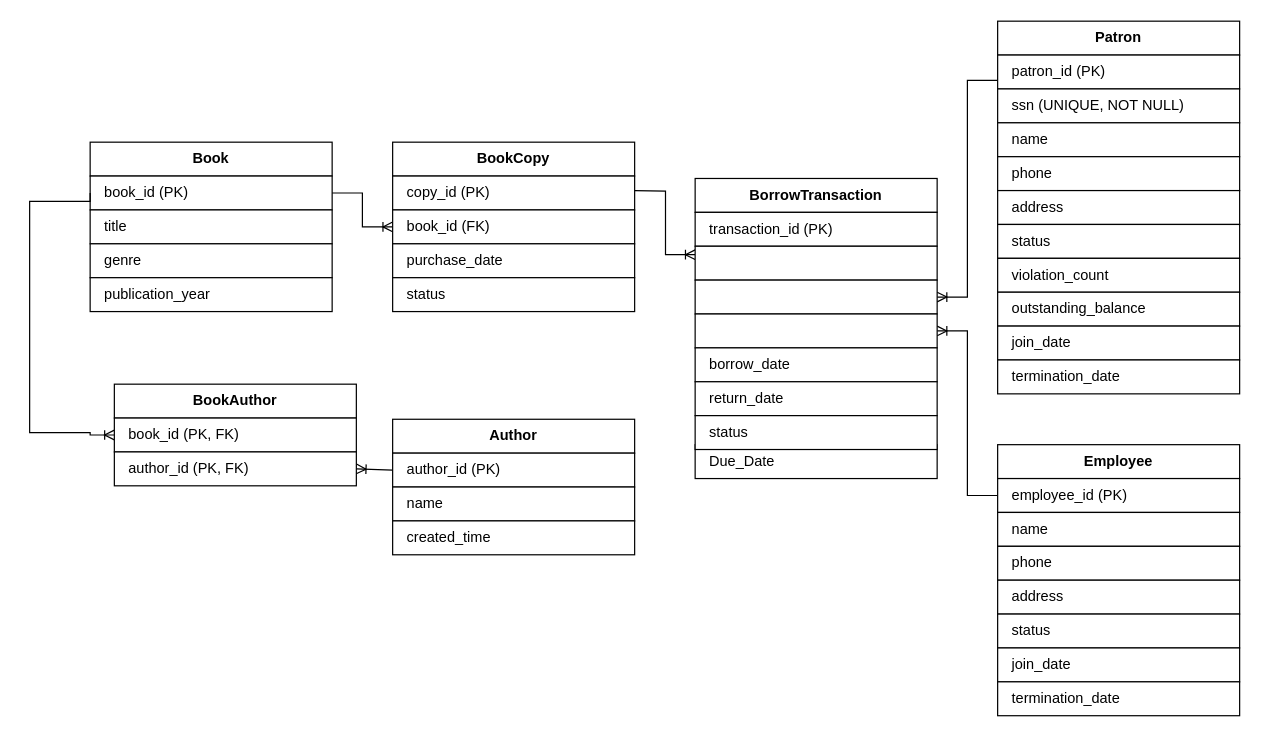
The diagram is 1261 pixels wide and 737 high, and some of its shapes have lost their labels. Each missing label, with the centre of its shape:
"copy_id (FK)" belongs at point 815,262.
"employee_id (FK)" belongs at point 815,330.
"patron_id (FK)" belongs at point 815,296.
